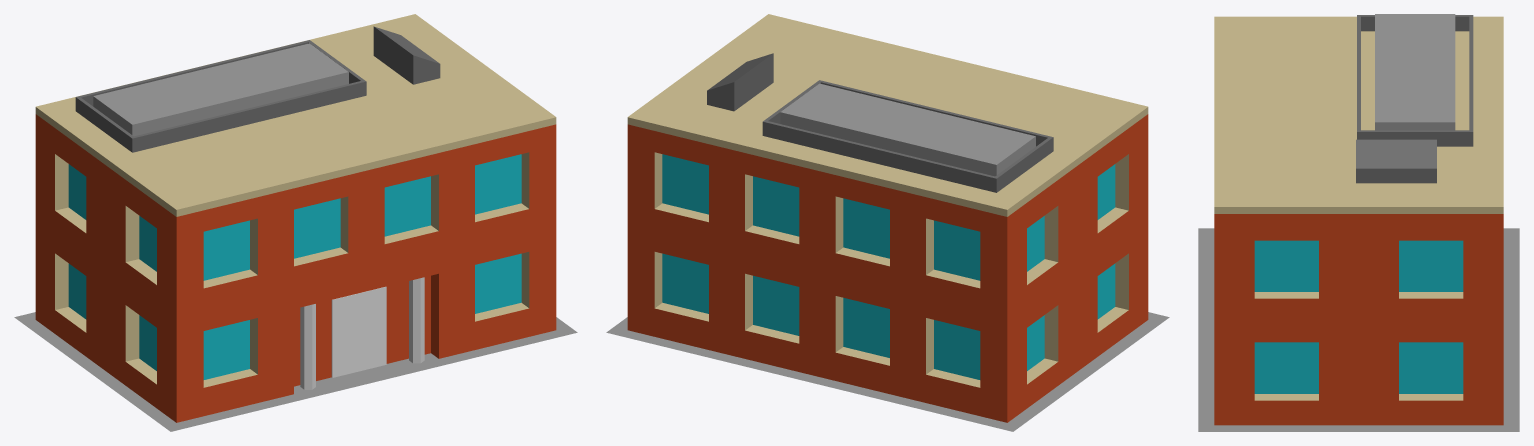
File: brick-small.fbx
The picture shows the model from 3 angles, left to right: view 1: azimuth 30°, elevation 25°; view 2: azimuth 150°, elevation 25°; view 3: azimuth 270°, elevation 25°; orthographic projection. The views are drawn at different scales.
Parts seen in each view (by area): view 1: brick-small; view 2: brick-small; view 3: brick-small.
Part boxes in pixels (box(x1,y1,x2,y2)): brick-small: box(14, 14, 577, 431); brick-small: box(606, 14, 1169, 431); brick-small: box(1198, 14, 1519, 431).
Bounding box in the file's own units: 300 × 171 × 200.
